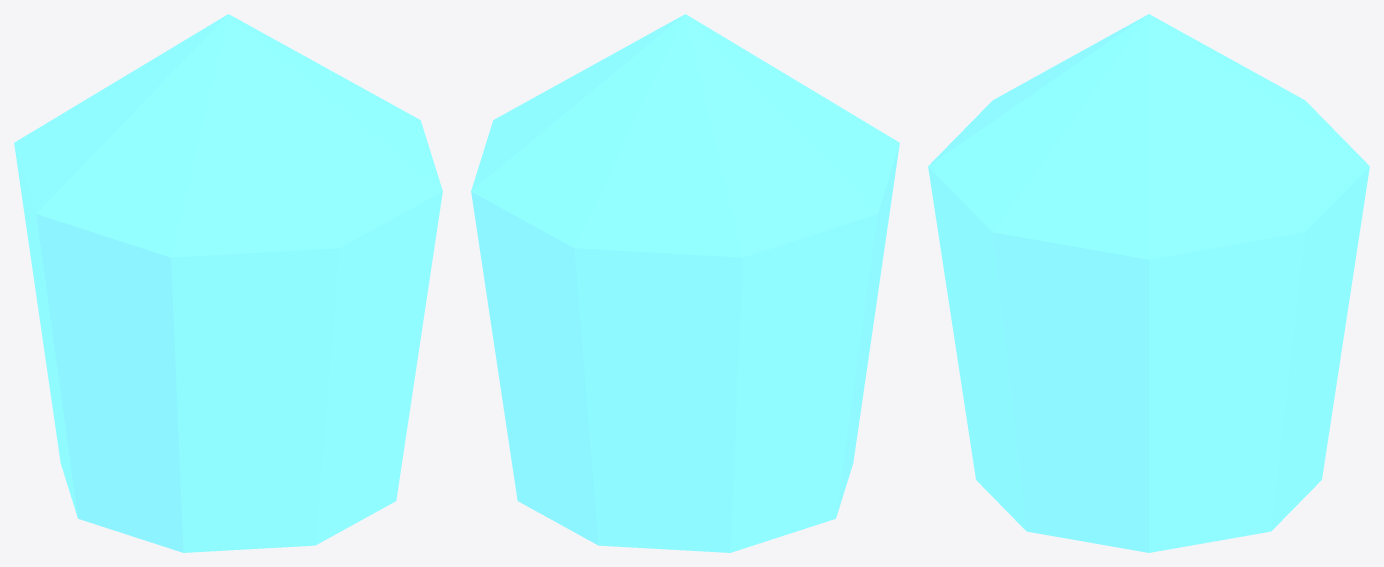
The model's file is Crystal_big_fat_single.fbx.
The picture shows the model from 3 angles, left to right: view 1: azimuth 30°, elevation 25°; view 2: azimuth 150°, elevation 25°; view 3: azimuth 270°, elevation 25°; orthographic projection.
Visible parts, largest first — view 1: Cube; view 2: Cube; view 3: Cube.
Part boxes in pixels (x1,y1,x2,y2): Cube: (14, 14, 442, 552); Cube: (471, 14, 899, 552); Cube: (928, 14, 1369, 552).
Bounding box in the file's own units: 4518 × 5256 × 4518.
